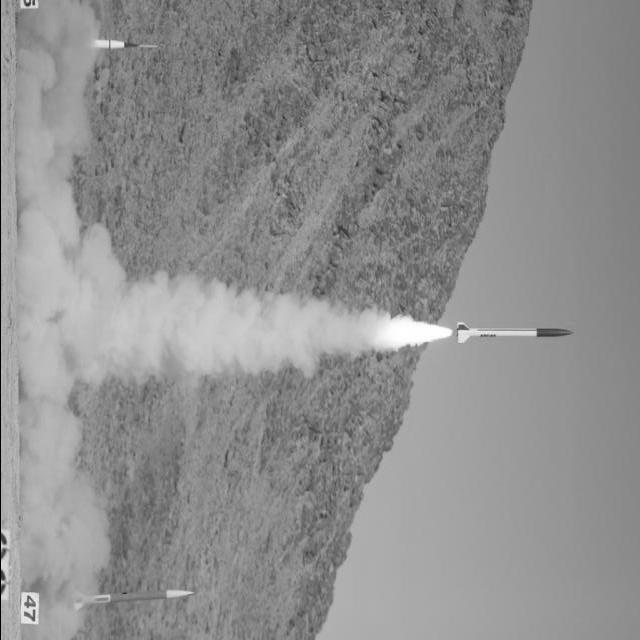missile: (73, 587, 194, 610), (448, 323, 577, 341), (85, 38, 161, 52)
